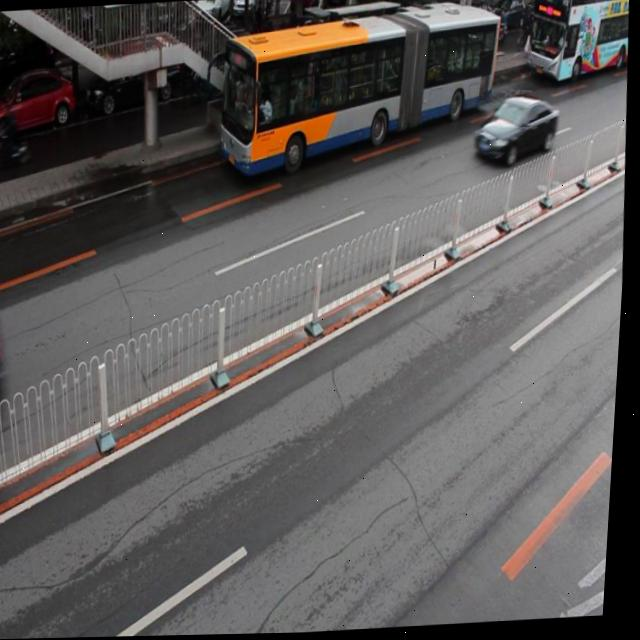car: (473, 94, 561, 169), (83, 44, 180, 110), (0, 66, 79, 140), (188, 26, 260, 94), (273, 15, 350, 78)
van: (217, 4, 504, 168), (526, 0, 632, 85)
